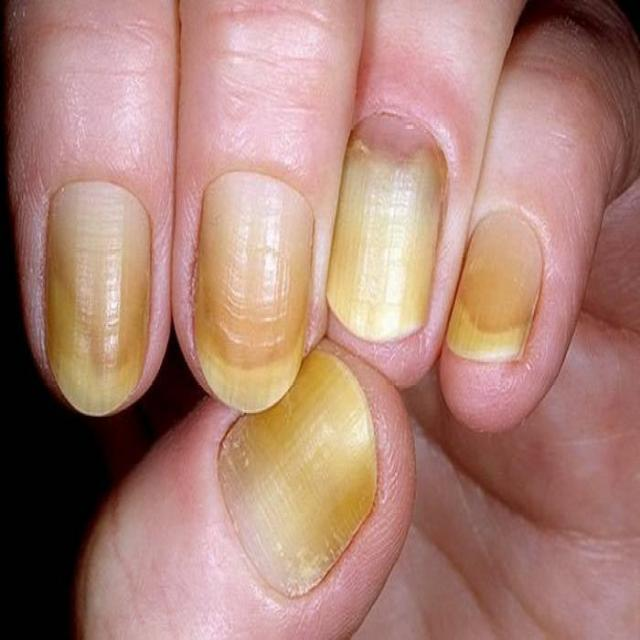diabetes: (217, 349, 377, 597), (191, 170, 313, 413), (327, 120, 440, 342), (46, 177, 151, 413), (446, 212, 543, 363)
